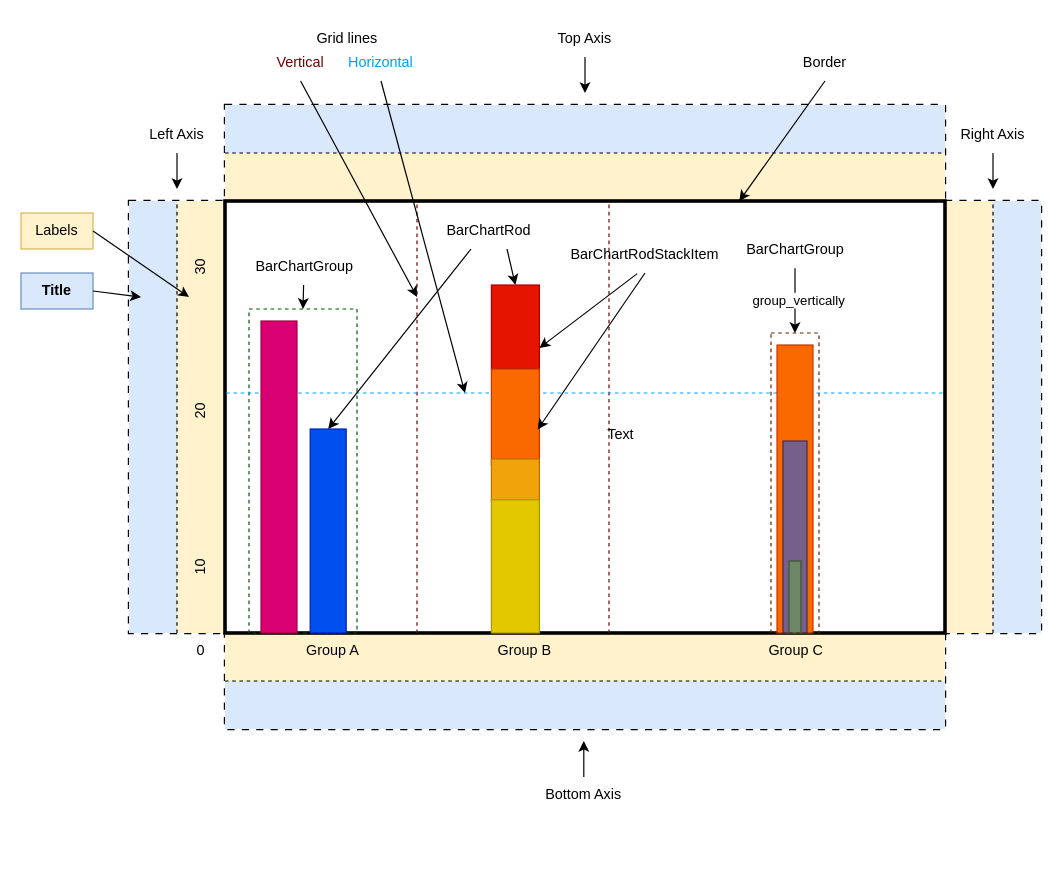
The diagram is 1063 pixels wide and 881 high, and some of its shapes have lost their labels. The shapes that lost their labels are listed below. From the top down, each one's centre as x and y in pixels, then its label:
At pixel 152 416: "Left Axis Title".
At pixel 584 704: "Bottom Axis Title".
